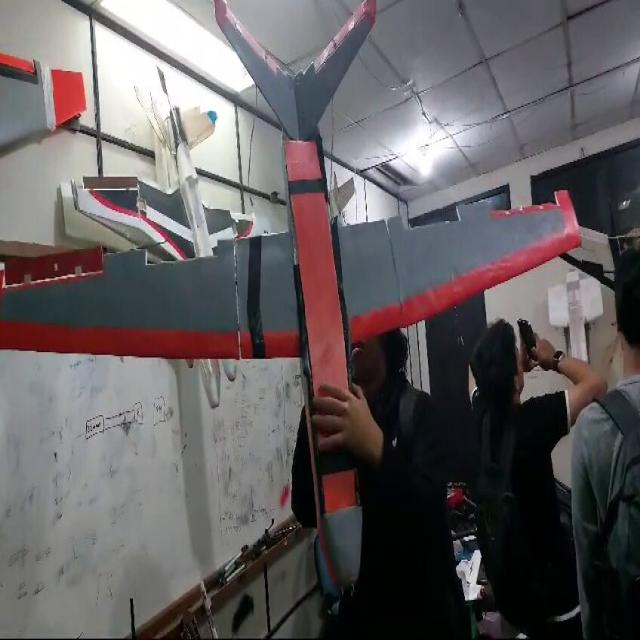plane: (0, 0, 588, 611)
